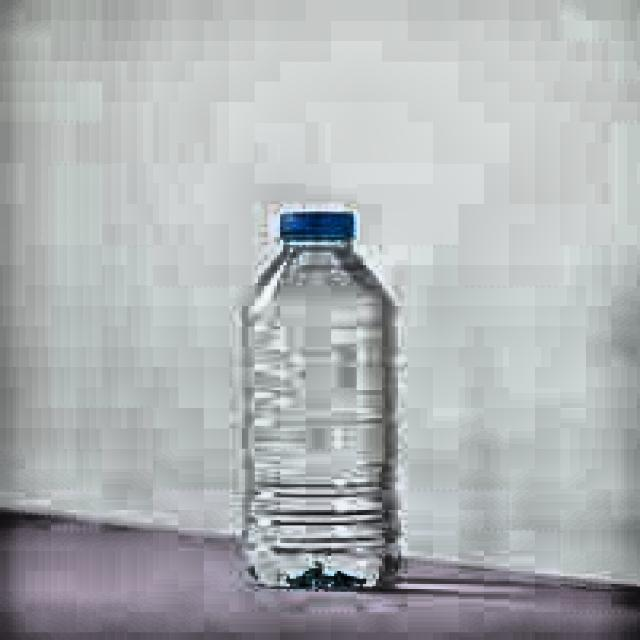plastic bottle: (244, 212, 401, 588)
